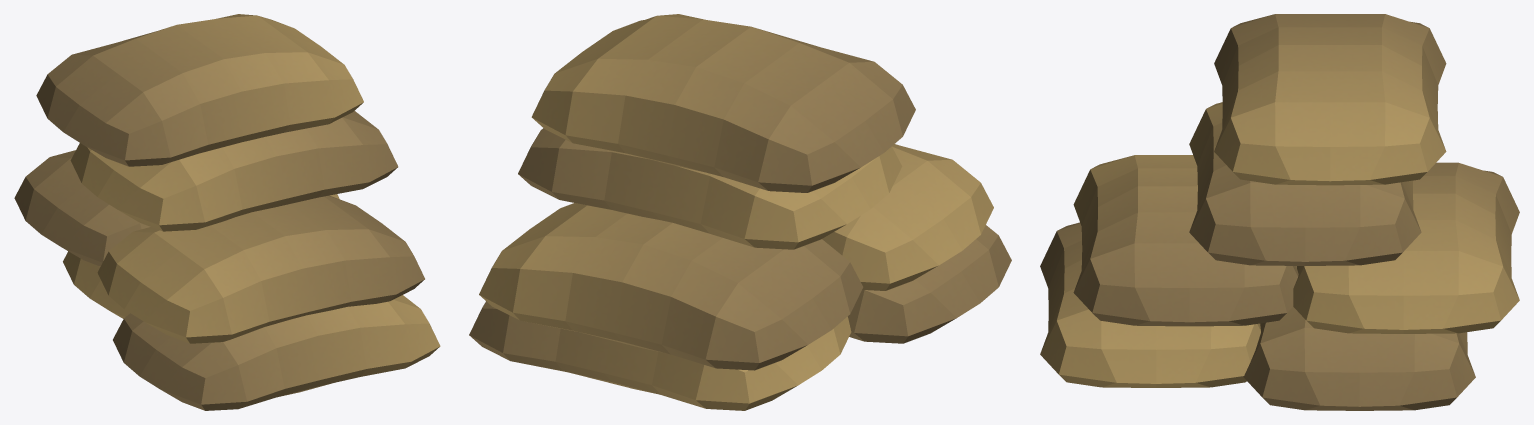
The model's file is Sack_1B.fbx.
3 views of the same model, side by side, from view 1: azimuth 30°, elevation 25°; view 2: azimuth 150°, elevation 25°; view 3: azimuth 270°, elevation 25° (orthographic). The views are drawn at different scales.
Parts seen in each view (by area): view 1: polySurface9658; view 2: polySurface9658; view 3: polySurface9658.
Boxes of the visible parts, x1,y1,x2,y2 form: polySurface9658: (14, 14, 440, 410); polySurface9658: (469, 14, 1011, 410); polySurface9658: (1040, 14, 1519, 410).
Bounding box in the file's own units: 193 × 160 × 230.
